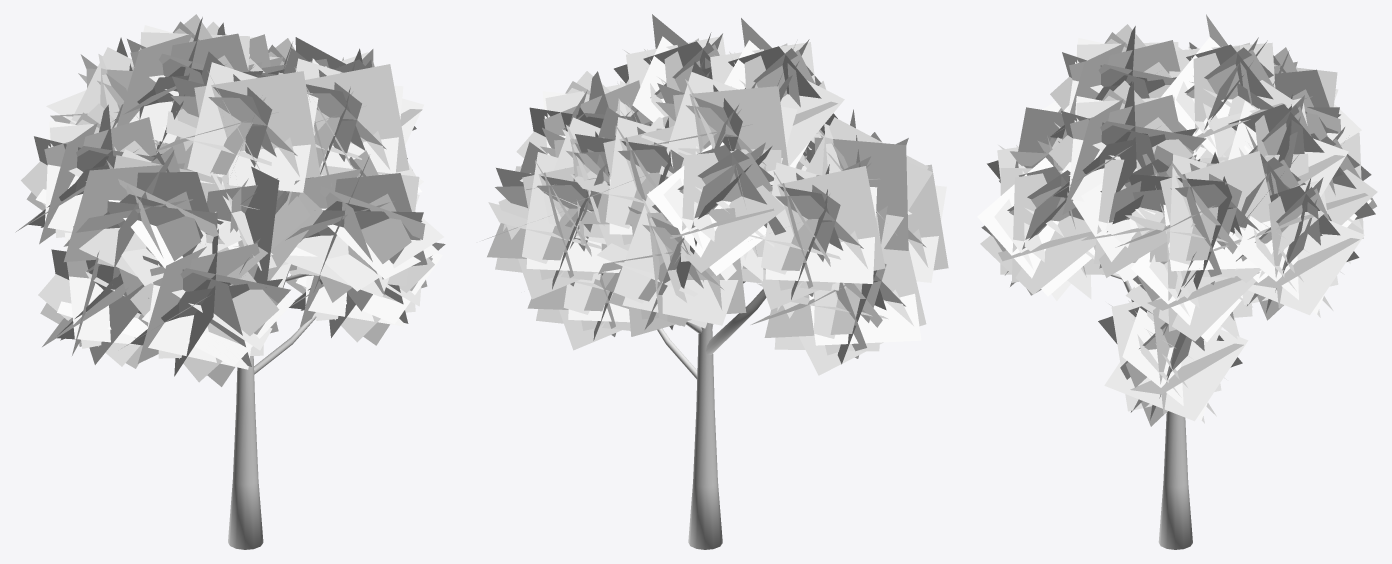
Rendered from tree.glb.
The picture shows the model from 3 angles, left to right: view 1: azimuth 30°, elevation 25°; view 2: azimuth 150°, elevation 25°; view 3: azimuth 270°, elevation 25°; orthographic projection. The views are drawn at different scales.
Parts seen in each view (by area): view 1: Plane.005, Plane.018, Plane.002, Plane.006, Plane.004, Plane.008, Plane.001, Plane.010, Plane.013, Plane.007, Cylinder, Plane.014 (+3 smaller); view 2: Plane.008, Plane.014, Plane.016, Plane.011, Plane.001, Plane.010, Plane.015, Plane.005, Plane.002, Cylinder, Plane.004, Plane.007 (+3 smaller); view 3: Plane.017, Plane.006, Plane.007, Plane.004, Plane.016, Plane.010, Plane.005, Plane.012, Plane.015, Plane.003, Plane.014, Cylinder (+4 smaller).
Boxes of the visible parts, bbox=[...] form: Plane.005: bbox=[151, 51, 320, 192]; Plane.018: bbox=[121, 229, 294, 386]; Plane.002: bbox=[63, 147, 241, 295]; Plane.006: bbox=[284, 150, 443, 311]; Plane.004: bbox=[256, 48, 409, 186]; Plane.008: bbox=[15, 103, 161, 244]; Plane.001: bbox=[38, 232, 148, 368]; Plane.010: bbox=[112, 14, 262, 152]; Plane.013: bbox=[200, 166, 322, 287]; Plane.007: bbox=[286, 242, 445, 345]; Cylinder: bbox=[73, 226, 316, 549]; Plane.014: bbox=[46, 37, 182, 154]; Plane.008: bbox=[741, 162, 885, 309]; Plane.014: bbox=[647, 139, 785, 281]; Plane.016: bbox=[482, 141, 620, 299]; Plane.011: bbox=[597, 191, 748, 336]; Plane.001: bbox=[751, 248, 926, 375]; Plane.010: bbox=[641, 61, 797, 185]; Plane.015: bbox=[564, 107, 683, 250]; Plane.005: bbox=[702, 18, 844, 168]; Plane.002: bbox=[801, 109, 932, 250]; Cylinder: bbox=[649, 123, 766, 549]; Plane.004: bbox=[614, 14, 725, 124]; Plane.007: bbox=[527, 272, 630, 350]; Plane.017: bbox=[1115, 145, 1274, 298]; Plane.006: bbox=[977, 136, 1104, 300]; Plane.007: bbox=[1098, 300, 1248, 426]; Plane.004: bbox=[1042, 80, 1206, 214]; Plane.016: bbox=[1236, 177, 1364, 320]; Plane.010: bbox=[1161, 14, 1295, 161]; Plane.005: bbox=[1042, 24, 1193, 141]; Plane.012: bbox=[1125, 226, 1264, 346]; Plane.015: bbox=[1211, 83, 1348, 196]; Plane.003: bbox=[1068, 154, 1210, 287]; Plane.014: bbox=[1273, 47, 1361, 143]; Cylinder: bbox=[1110, 220, 1192, 549].
Bounding box in the file's own units: 4.42 × 5.33 × 3.94.
Materials: 1 (1 with a texture image).
